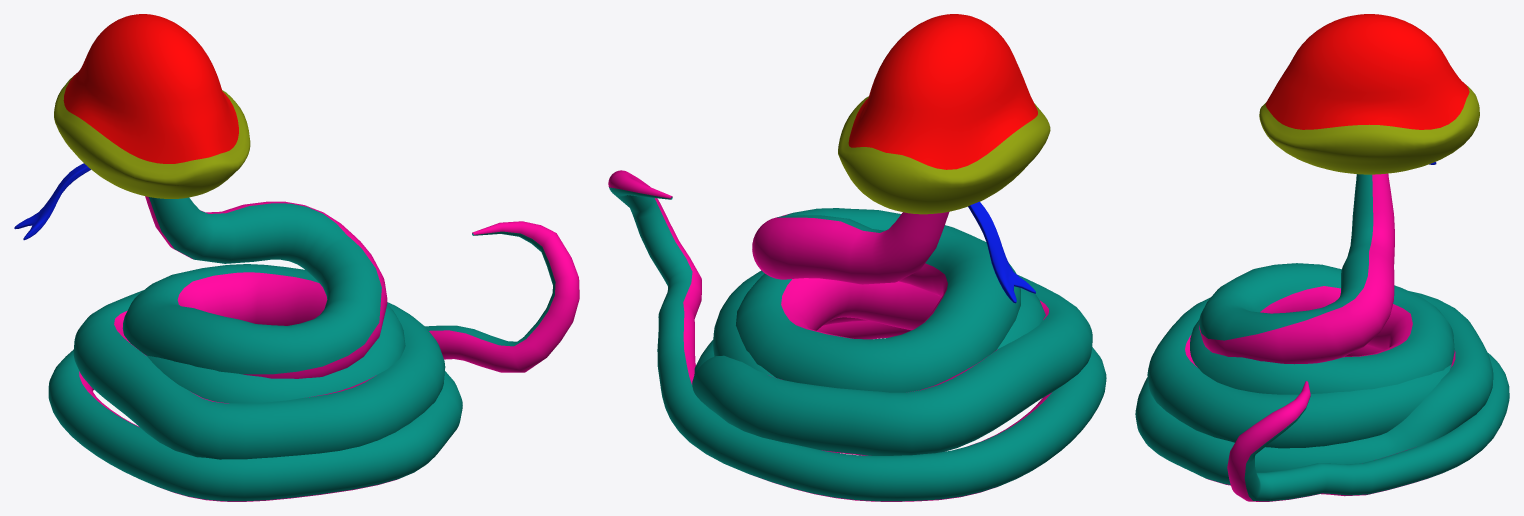
The model's file is LowPolySerpent (1).fbx.
3 renders of one model, left to right at view 1: azimuth 30°, elevation 25°; view 2: azimuth 150°, elevation 25°; view 3: azimuth 270°, elevation 25°, orthographic. The views are drawn at different scales.
Visible parts, largest first — view 1: Object002, Object, Cylinder001, Sphere001, Box001; view 2: Object002, Cylinder001, Object, Sphere001, Box001; view 3: Object002, Object, Cylinder001, Sphere001.
Part boxes in pixels (x1,y1,x2,y2): Object002: (48, 197, 555, 501); Object: (63, 14, 238, 163); Cylinder001: (79, 196, 579, 501); Sphere001: (54, 75, 250, 198); Box001: (14, 163, 90, 240); Object002: (609, 187, 1106, 501); Cylinder001: (608, 170, 1051, 501); Object: (848, 14, 1037, 169); Sphere001: (838, 96, 1050, 214); Box001: (968, 201, 1035, 303); Object002: (1135, 174, 1509, 501); Object: (1265, 14, 1469, 129); Cylinder001: (1185, 173, 1455, 501); Sphere001: (1259, 85, 1479, 174).
Size of the model in its own units: 93.82 by 77.97 by 70.87.
